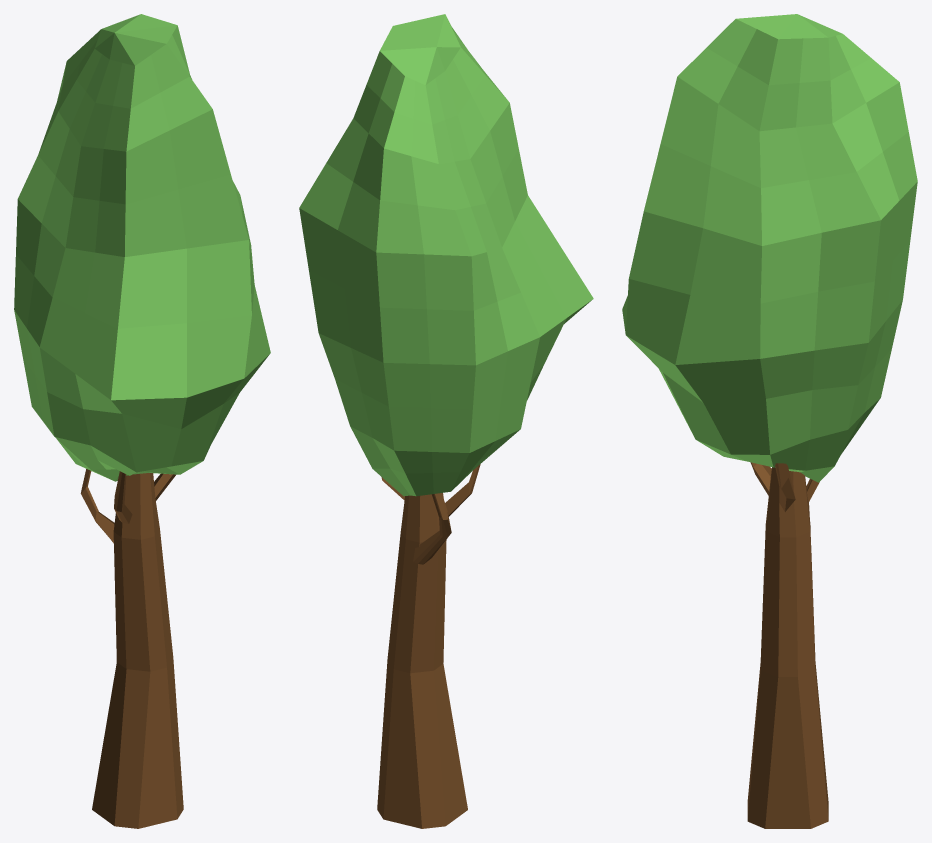
File: Tree 6.fbx
The picture shows the model from 3 angles, left to right: view 1: azimuth 30°, elevation 25°; view 2: azimuth 150°, elevation 25°; view 3: azimuth 270°, elevation 25°; orthographic projection. The views are drawn at different scales.
Parts seen in each view (by area): view 1: Sphere.018; view 2: Sphere.018; view 3: Sphere.018.
Boxes of the visible parts, x1=… form: Sphere.018: x1=14, y1=14, x2=270, y2=828; Sphere.018: x1=299, y1=14, x2=593, y2=828; Sphere.018: x1=622, y1=14, x2=917, y2=828.
Bounding box in the file's own units: 263 × 935 × 315.
